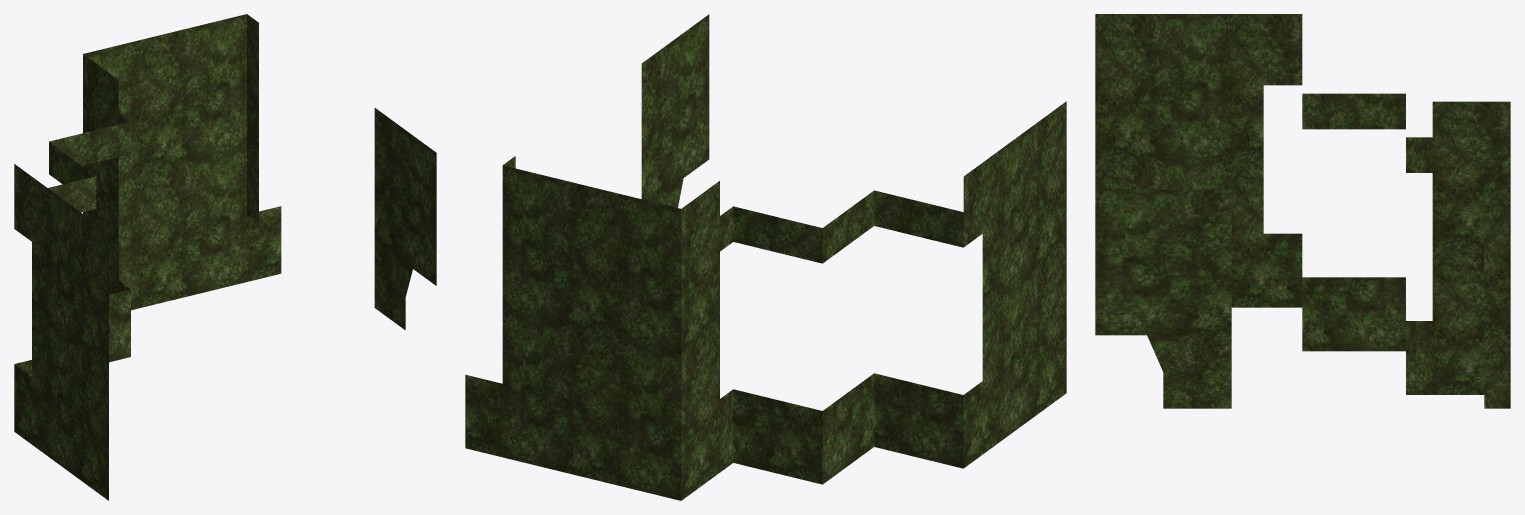
File: OVERHILL_A_01_OBJECT136.fbx
The picture shows the model from 3 angles, left to right: view 1: azimuth 30°, elevation 25°; view 2: azimuth 150°, elevation 25°; view 3: azimuth 270°, elevation 25°; orthographic projection. The views are drawn at different scales.
Visible parts, largest first — view 1: OVERHILL_A_01_OBJECT136; view 2: OVERHILL_A_01_OBJECT136; view 3: OVERHILL_A_01_OBJECT136.
Boxes of the visible parts, x1,y1,x2,y2 form: OVERHILL_A_01_OBJECT136: (14,14,436,500); OVERHILL_A_01_OBJECT136: (465,14,1066,500); OVERHILL_A_01_OBJECT136: (1095,14,1510,408).
Size of the model in its own units: 88347 by 62500 by 80196.
1 material, 1 textured.
